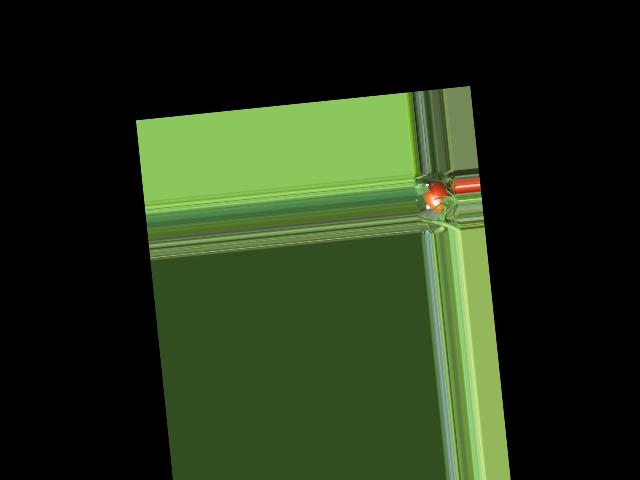tomato: (422, 180, 451, 213)
